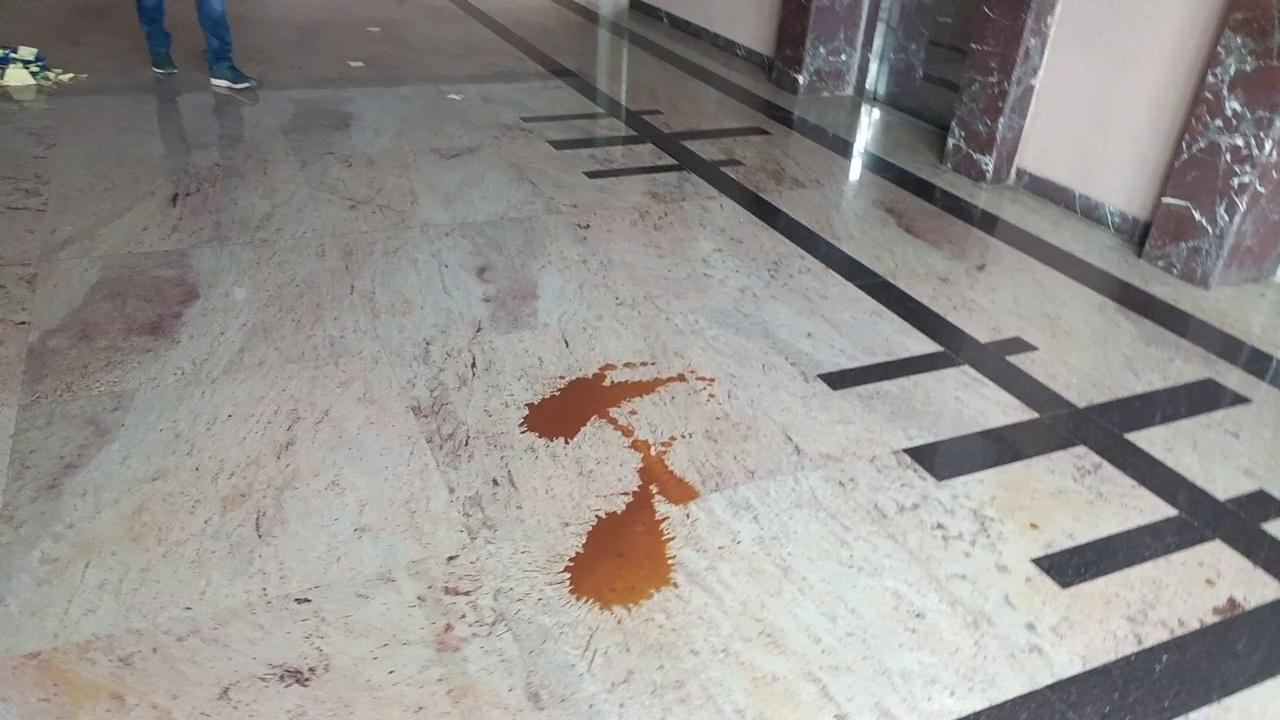dirty_floor: (525, 359, 715, 614)
